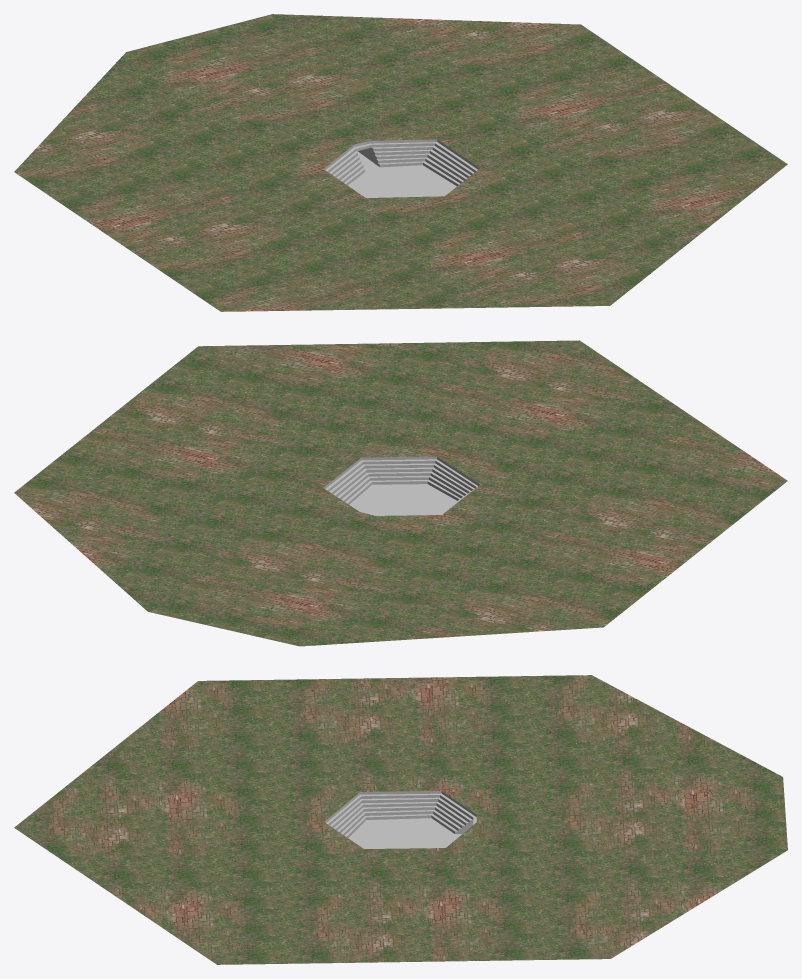
The model's file is Amphitheatre And Ground.fbx.
3 views of the same model, one above another, from view 1: azimuth 30°, elevation 25°; view 2: azimuth 150°, elevation 25°; view 3: azimuth 270°, elevation 25° (orthographic).
Parts seen in each view (by area): view 1: grass, amph; view 2: grass, amph; view 3: grass, amph.
Part boxes in pixels (x1,y1,x2,y2): grass: (14, 14, 787, 311); amph: (324, 139, 479, 197); grass: (14, 340, 787, 646); amph: (323, 456, 479, 515); grass: (14, 675, 787, 964); amph: (324, 791, 476, 848).
Bounding box in the file's own units: 223 × 7 × 251.
